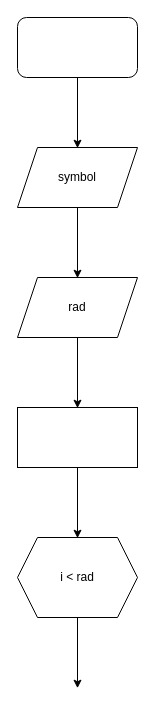
The diagram is 155 pixels wide and 714 high, and some of its shapes have lost their labels. The shapes that lost their labels are listed below. From the top down, each one's centre as x and y in pixels, then its label:
At [77,47]: "Начало".
At [77,437]: "i = 0".
